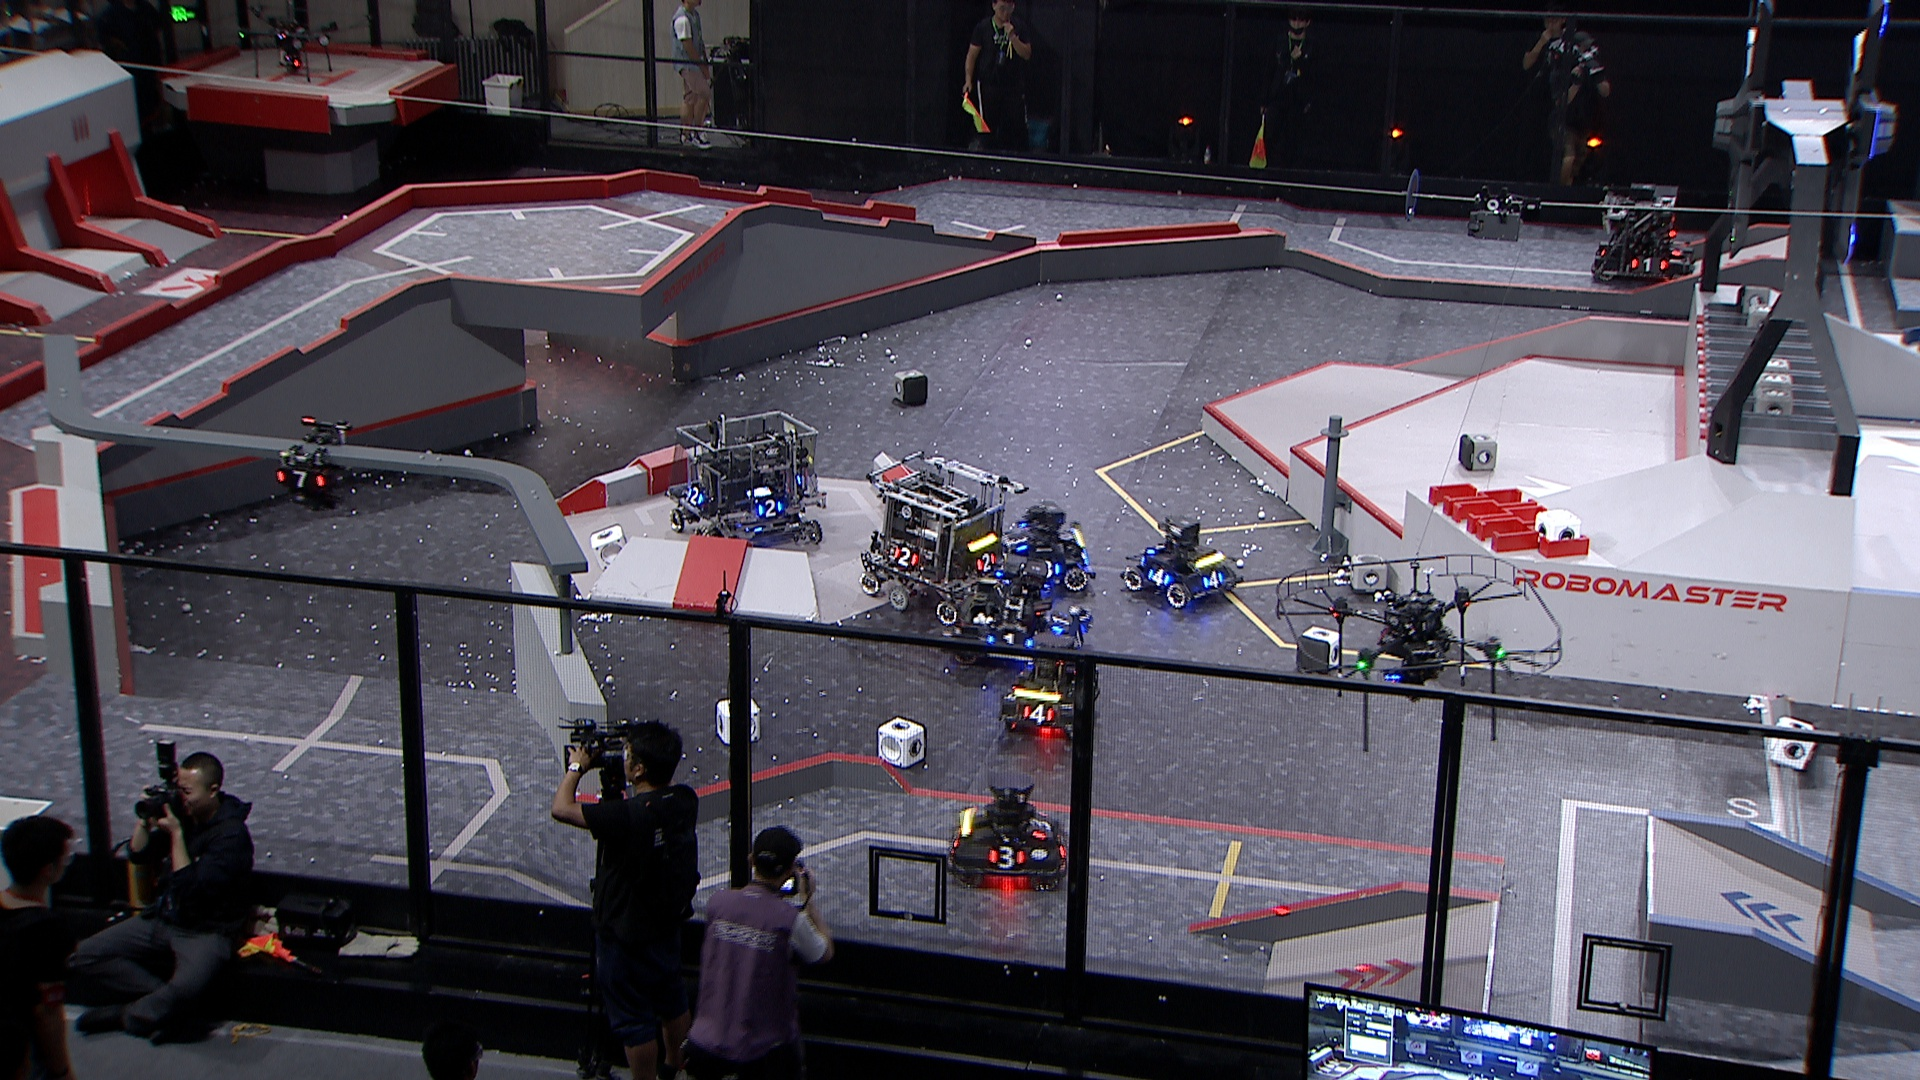armor: (276, 469, 328, 489), (986, 847, 1029, 869), (1022, 702, 1058, 727), (988, 632, 1035, 647), (1048, 607, 1073, 636), (1030, 811, 1054, 841), (756, 496, 785, 520), (891, 545, 920, 568), (1631, 257, 1667, 276), (1149, 564, 1172, 588), (1201, 568, 1225, 589), (1072, 621, 1088, 651), (684, 485, 708, 505), (975, 553, 998, 572), (1007, 531, 1029, 551), (1043, 559, 1063, 579), (1147, 541, 1167, 553)
car: (856, 450, 1030, 622), (666, 410, 828, 553), (948, 559, 1097, 669), (949, 775, 1069, 891), (1586, 178, 1702, 284), (1121, 513, 1238, 611), (1000, 637, 1102, 741), (984, 501, 1096, 593)
watcher: (273, 415, 352, 513)
